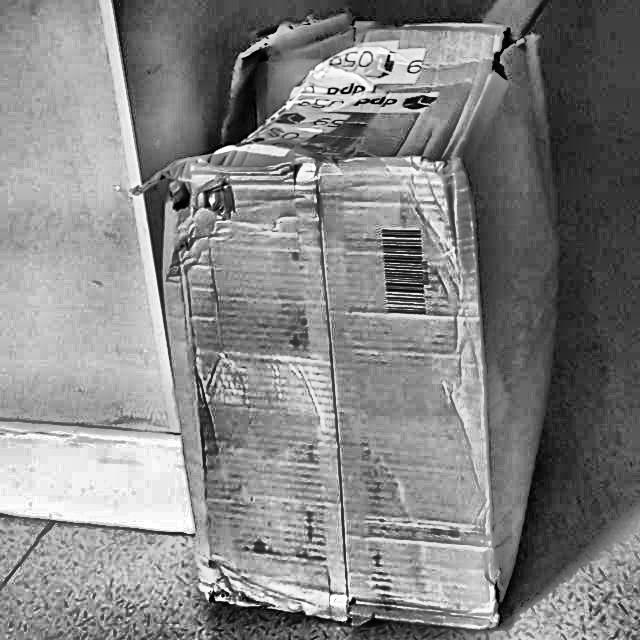box: (134, 19, 576, 632)
hole: (490, 27, 530, 89), (170, 176, 199, 225)
